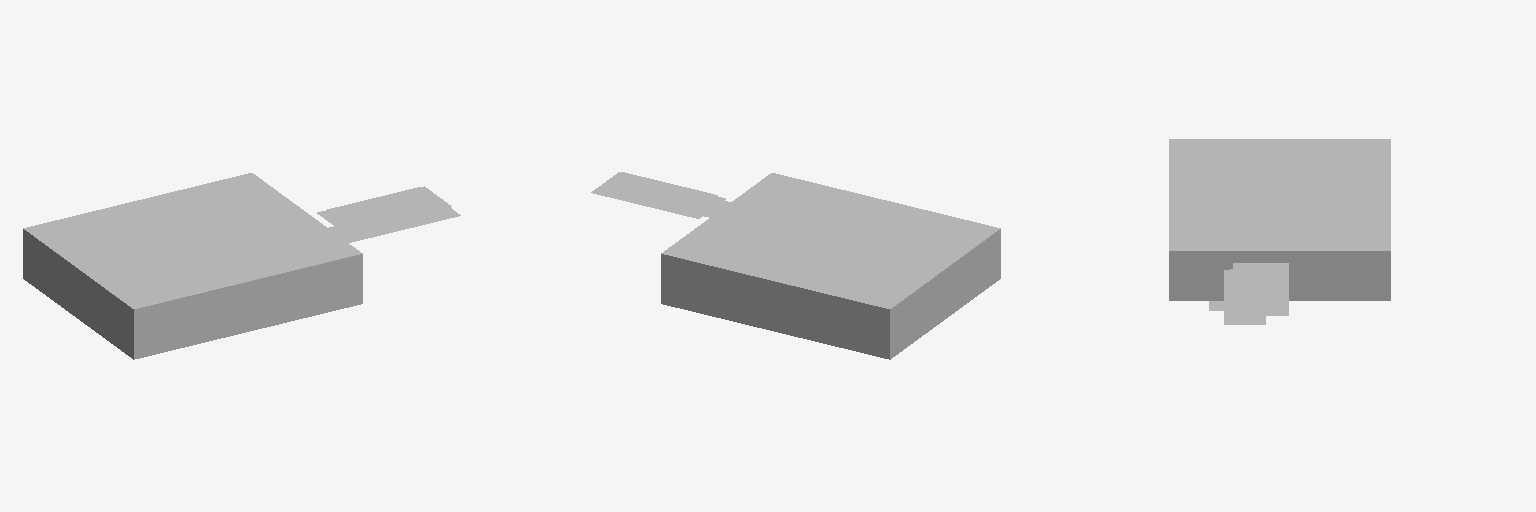
3 views of the same model, side by side, from view 1: azimuth 30°, elevation 25°; view 2: azimuth 150°, elevation 25°; view 3: azimuth 270°, elevation 25° (orthographic).
Visible parts, largest first — view 1: bb, msg_save, msg_error; view 2: bb, msg_save; view 3: bb, msg_save, msg_error.
Part boxes in pixels (bbox=[...]): bb: bbox=[23, 173, 362, 359]; msg_save: bbox=[317, 186, 451, 232]; msg_error: bbox=[329, 208, 460, 242]; bb: bbox=[661, 173, 1000, 359]; msg_save: bbox=[591, 172, 725, 218]; bb: bbox=[1169, 139, 1390, 300]; msg_save: bbox=[1233, 263, 1288, 315]; msg_error: bbox=[1224, 269, 1265, 324].
Bounding box in the file's own units: 0.3979 × 0.0649 × 0.2151.